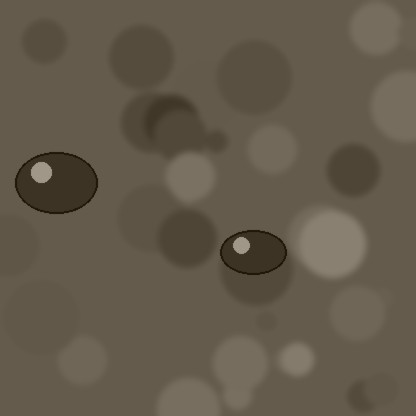gota: (15, 154, 97, 218), (220, 232, 286, 278)
